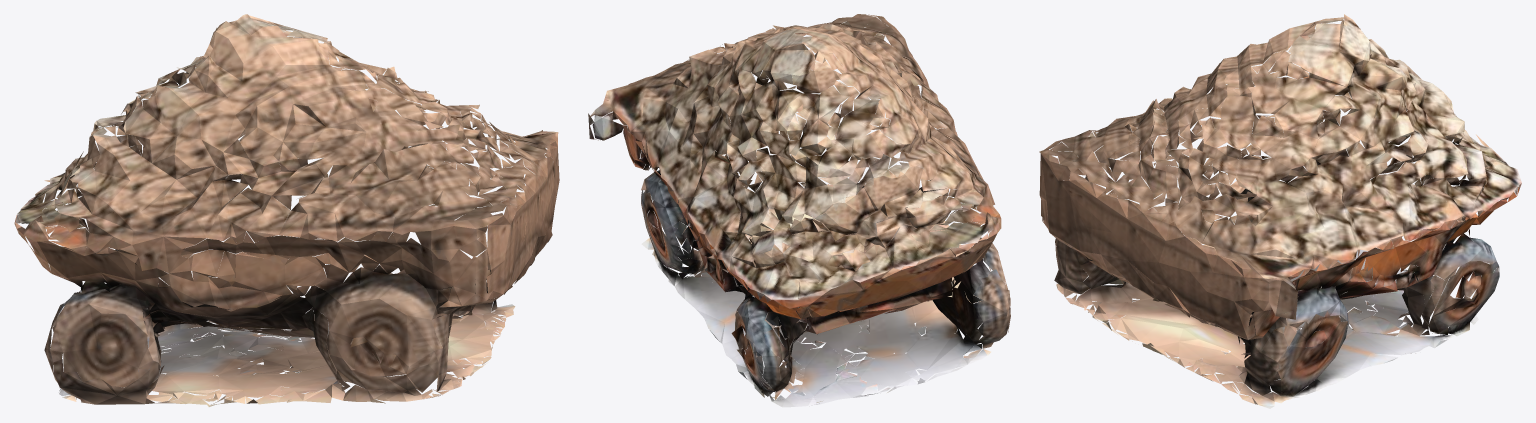
Rendered from orecart.glb.
The picture shows the model from 3 angles, left to right: view 1: azimuth 30°, elevation 25°; view 2: azimuth 150°, elevation 25°; view 3: azimuth 270°, elevation 25°; orthographic projection. The views are drawn at different scales.
Parts seen in each view (by area): view 1: world; view 2: world; view 3: world.
Part boxes in pixels (x1=…): world: x1=14, y1=14, x2=559, y2=406; world: x1=588, y1=14, x2=1010, y2=407; world: x1=1039, y1=14, x2=1521, y2=408.
Bounding box in the file's own units: 0.9308 × 0.6349 × 0.8598.
1 material, 1 textured.
